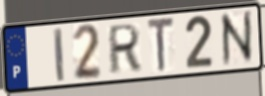2: (71, 23, 104, 84), (185, 13, 217, 72)
I: (52, 26, 67, 85)
N: (218, 8, 257, 69)
R: (107, 22, 143, 77)
T: (145, 15, 176, 76)
